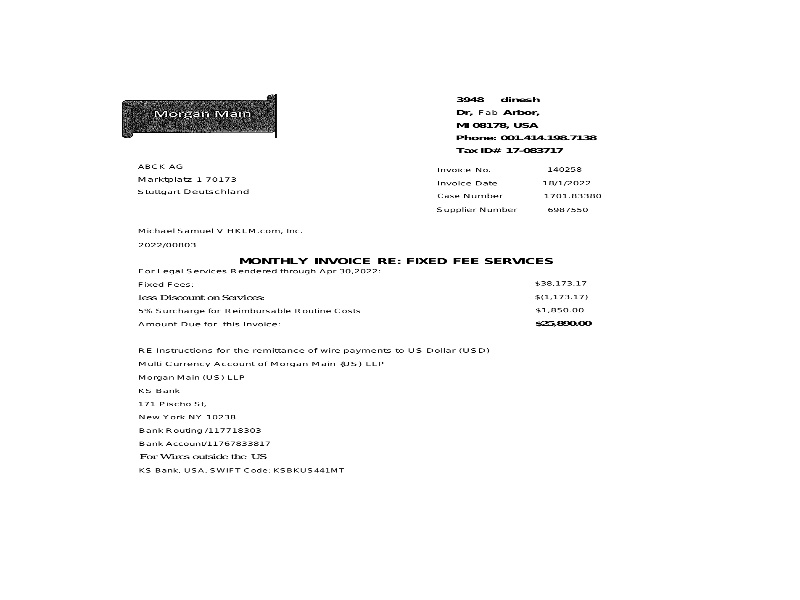Borderless: (138, 275, 602, 338)
